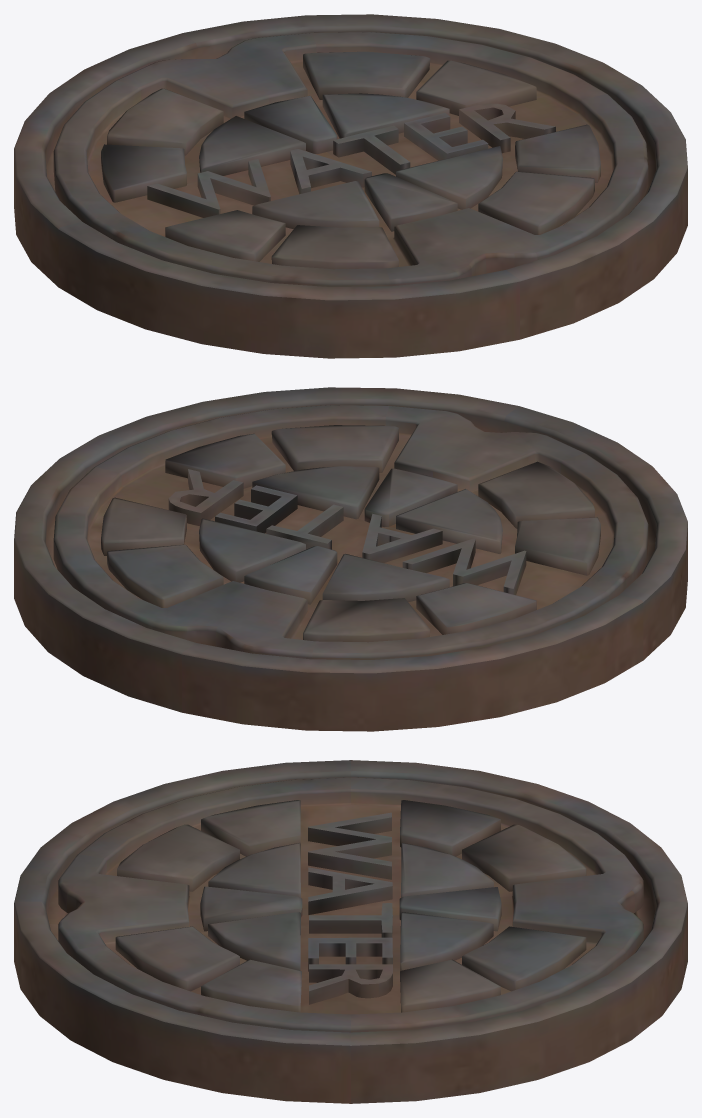
File: water_manhole_cover.glb
3 renders of one model, top to bottom at view 1: azimuth 30°, elevation 25°; view 2: azimuth 150°, elevation 25°; view 3: azimuth 270°, elevation 25°, orthographic.
Visible parts, largest first — view 1: water_manhole_cover_frame; view 2: water_manhole_cover_frame; view 3: water_manhole_cover_frame.
Boxes of the visible parts, x1=… form: water_manhole_cover_frame: x1=14, y1=14, x2=687, y2=358; water_manhole_cover_frame: x1=14, y1=387, x2=687, y2=731; water_manhole_cover_frame: x1=14, y1=760, x2=687, y2=1103.
Bounding box in the file's own units: 0.6908 × 0.0676 × 0.6908.
1 material, 1 textured.
